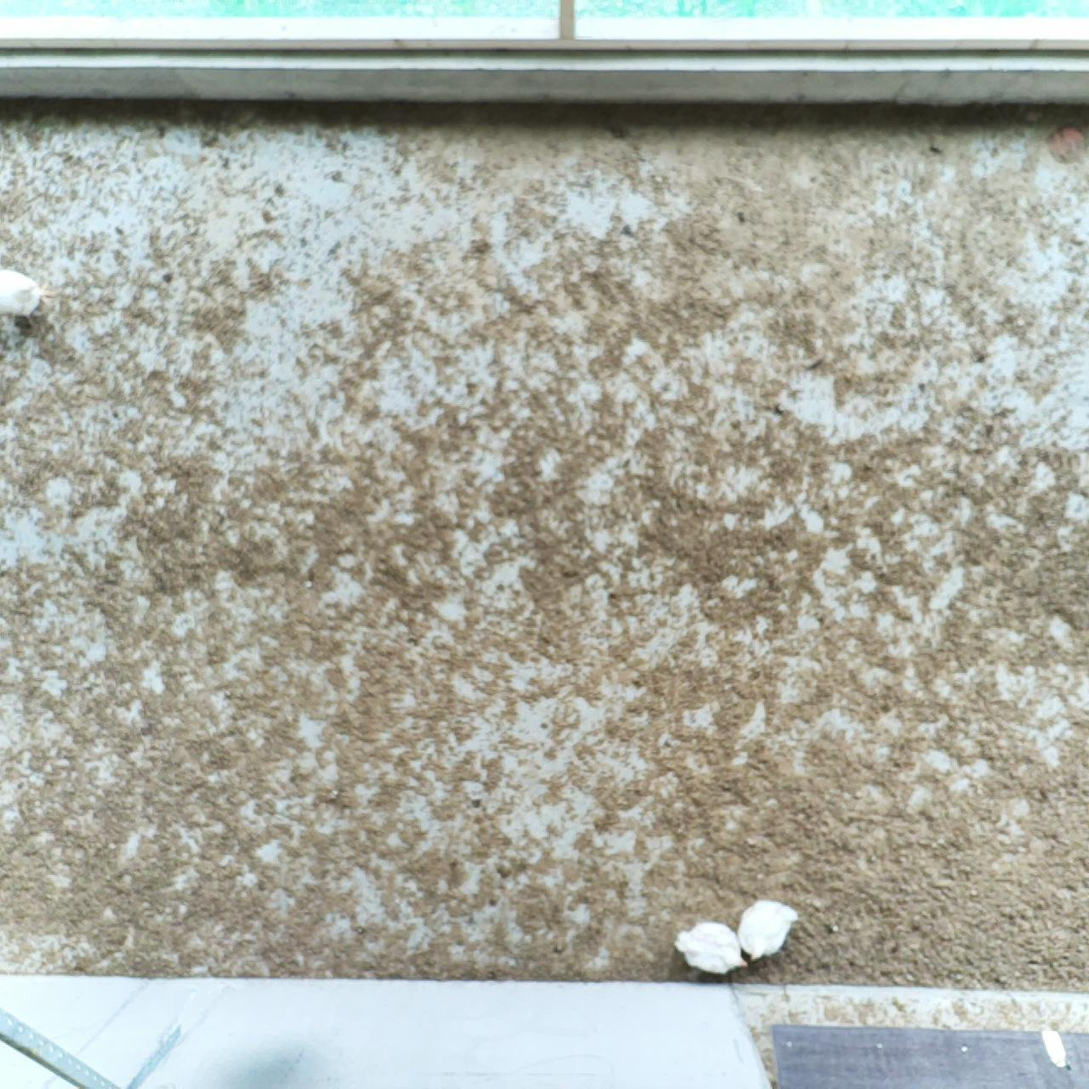chicken: (671, 916, 750, 978), (734, 894, 802, 964), (0, 264, 61, 328)
